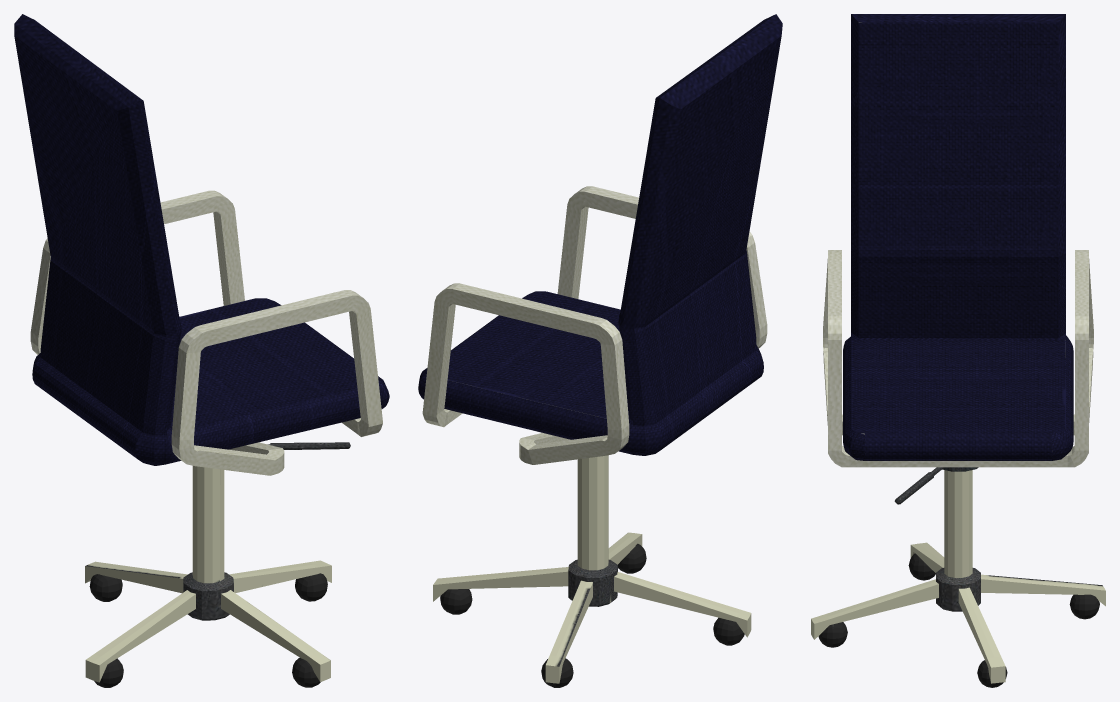
Rendered from CADEIRA.FBX.
3 renders of one model, left to right at view 1: azimuth 30°, elevation 25°; view 2: azimuth 150°, elevation 25°; view 3: azimuth 270°, elevation 25°, orthographic. The views are drawn at different scales.
Parts seen in each view (by area): view 1: Cube; view 2: Cube; view 3: Cube.
Boxes of the visible parts, x1,y1,x2,y2 form: Cube: (14, 14, 389, 687); Cube: (418, 14, 782, 687); Cube: (811, 14, 1105, 687).
Bounding box in the file's own units: 3901 × 8125 × 3862.
1 material, 1 textured.
